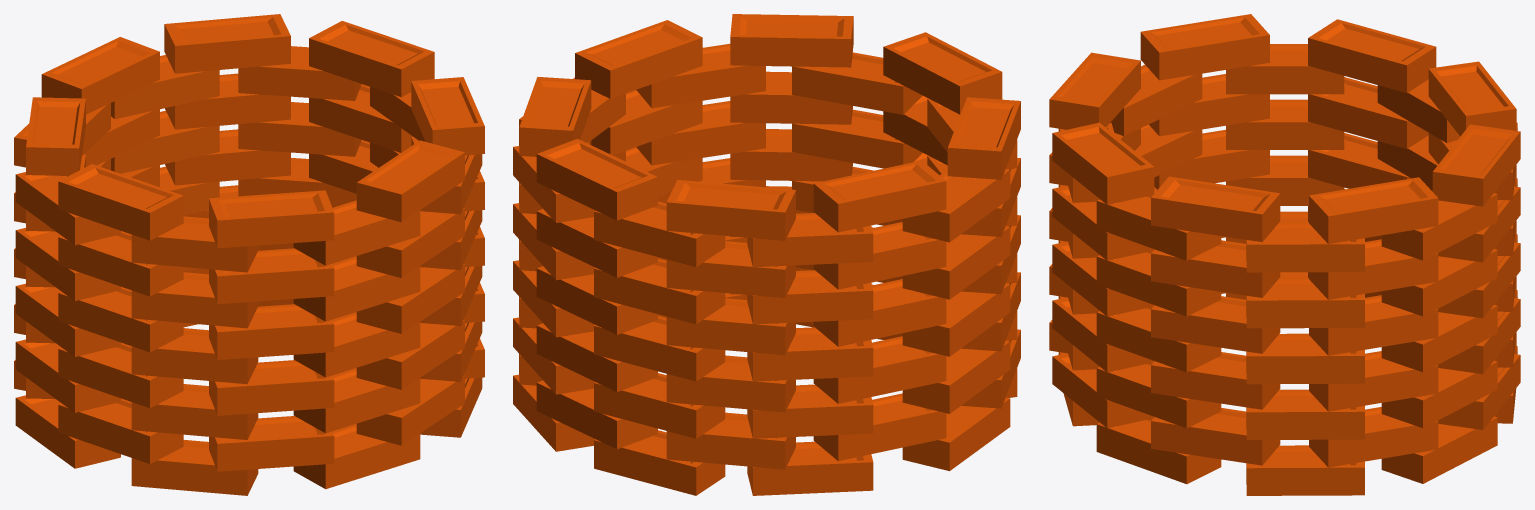
Rendered from cover.fbx.
3 renders of one model, left to right at view 1: azimuth 30°, elevation 25°; view 2: azimuth 150°, elevation 25°; view 3: azimuth 270°, elevation 25°, orthographic. The views are drawn at different scales.
Parts seen in each view (by area): view 1: brick.004; view 2: brick.004; view 3: brick.004.
Boxes of the visible parts, x1,y1,x2,y2 form: brick.004: (14,14,484,495); brick.004: (513,14,1020,495); brick.004: (1049,14,1520,495).
Bounding box in the file's own units: 639 × 410 × 627.
